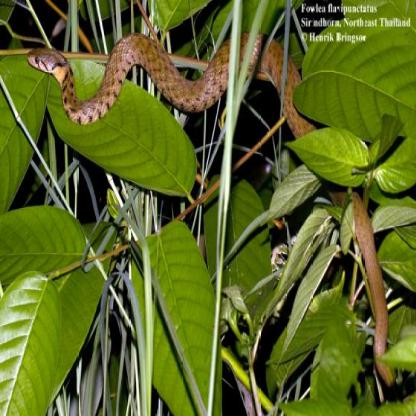Snake: (25, 31, 308, 131)
